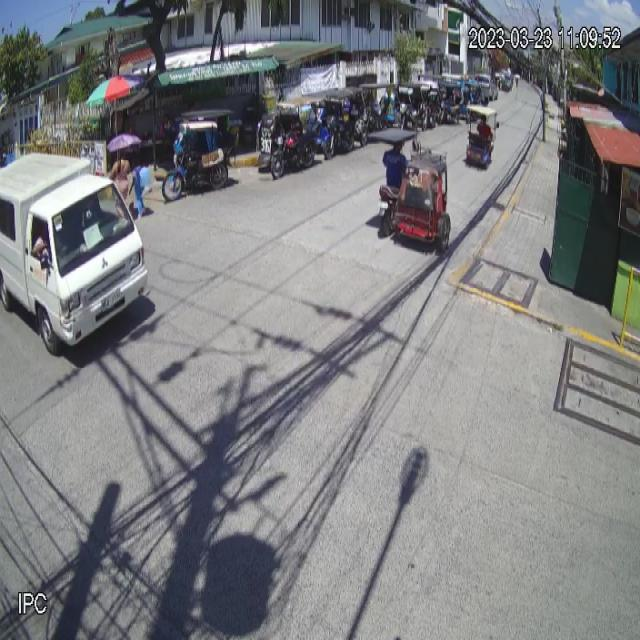Tricycle: (367, 127, 451, 258)
Van: (0, 152, 150, 356)
